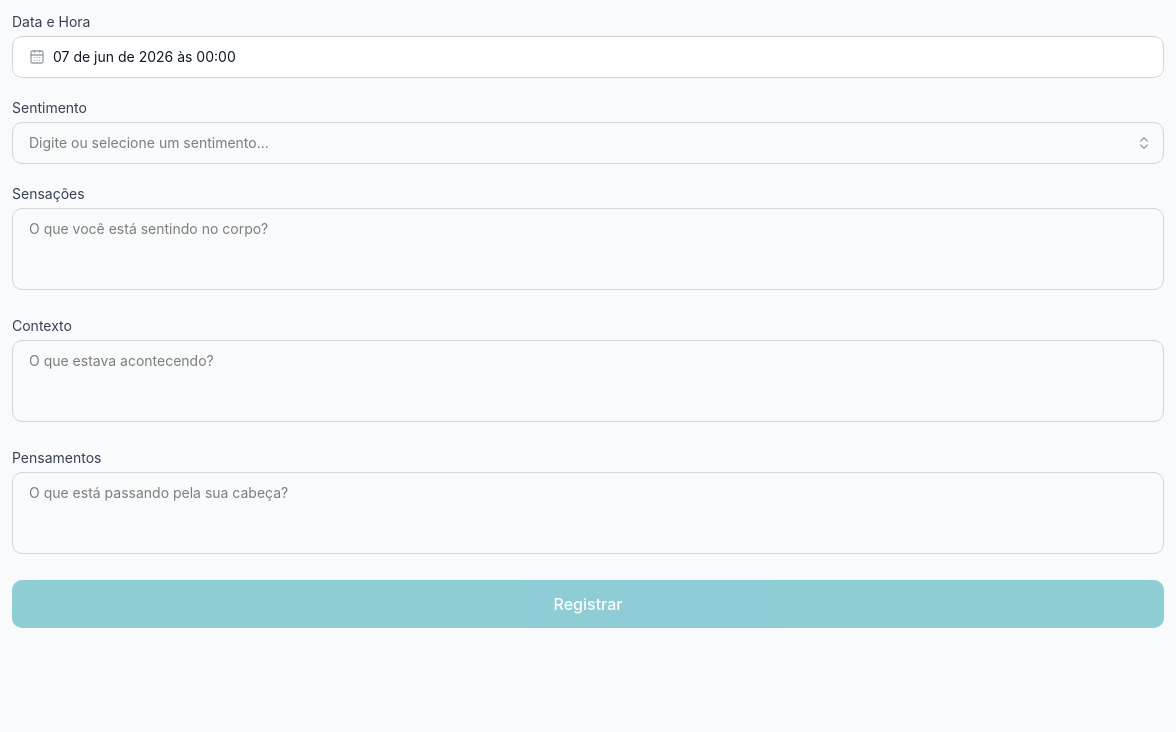
Test: RegistrationForm › submit button is enabled when at least one text field is filled (sentimento optional)
In the text box with placeholder "O que você está sentindo no corpo?": (588, 249) [12, 208, 1164, 290], type "Coração acelerado"
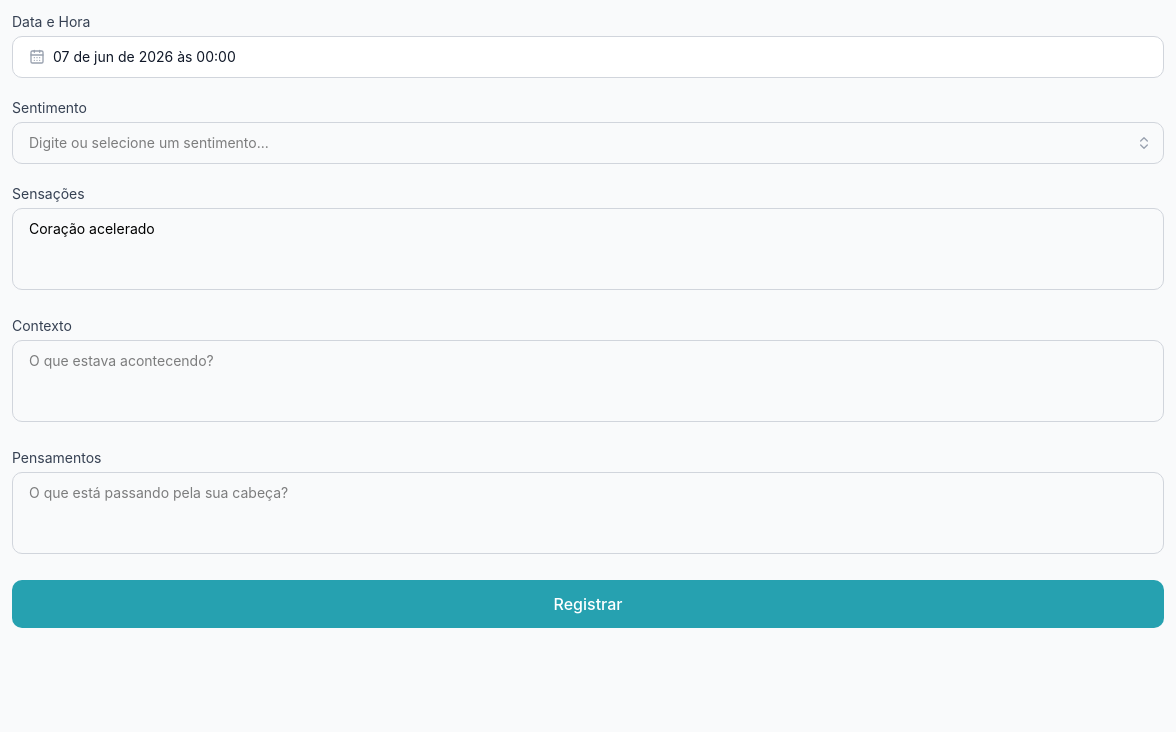
Expected: the button "Registrar" is enabled, [12, 580, 1164, 628]
